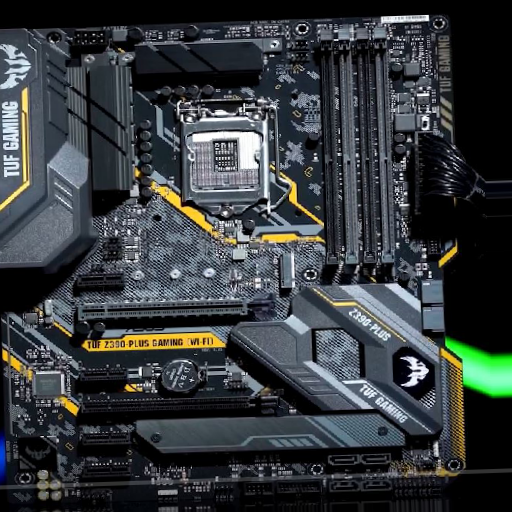CPU: (178, 101, 273, 217)
GPU: (77, 293, 276, 326), (81, 387, 286, 419)
MOTHERBOARD: (1, 16, 450, 488)
RAM: (316, 29, 398, 271)
SSD: (276, 251, 297, 292)
